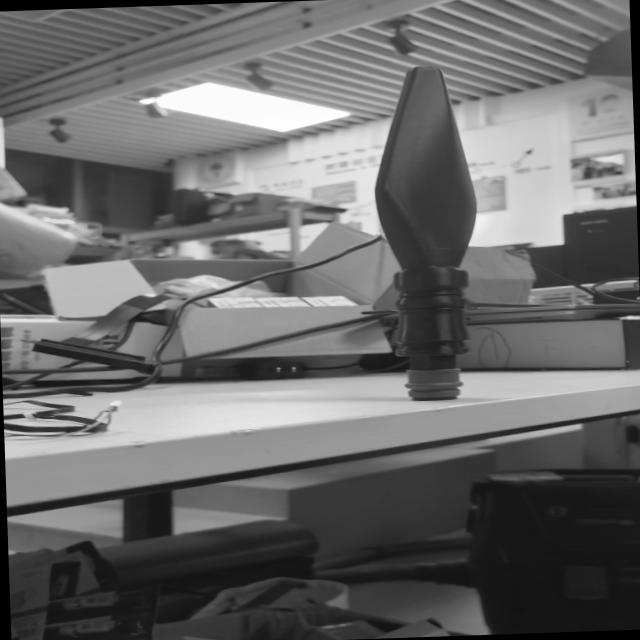base: (404, 360, 463, 400)
